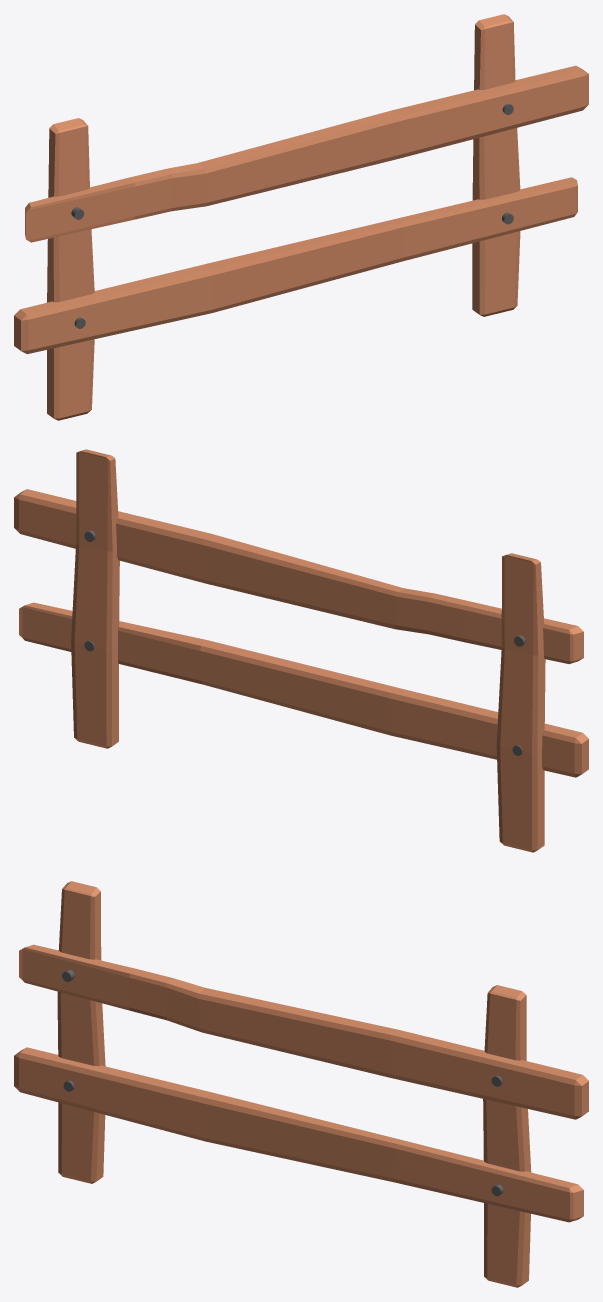
The model's file is Blender_fence.fbx.
The picture shows the model from 3 angles, top to bottom: view 1: azimuth 30°, elevation 25°; view 2: azimuth 150°, elevation 25°; view 3: azimuth 330°, elevation 25°; orthographic projection.
Visible parts, largest first — view 1: Fence; view 2: Fence; view 3: Fence.
Part boxes in pixels (bbox=[...]): Fence: bbox=[14, 14, 588, 420]; Fence: bbox=[14, 449, 588, 852]; Fence: bbox=[14, 881, 588, 1287].
Bounding box in the file's own units: 462 × 226 × 24.76.
